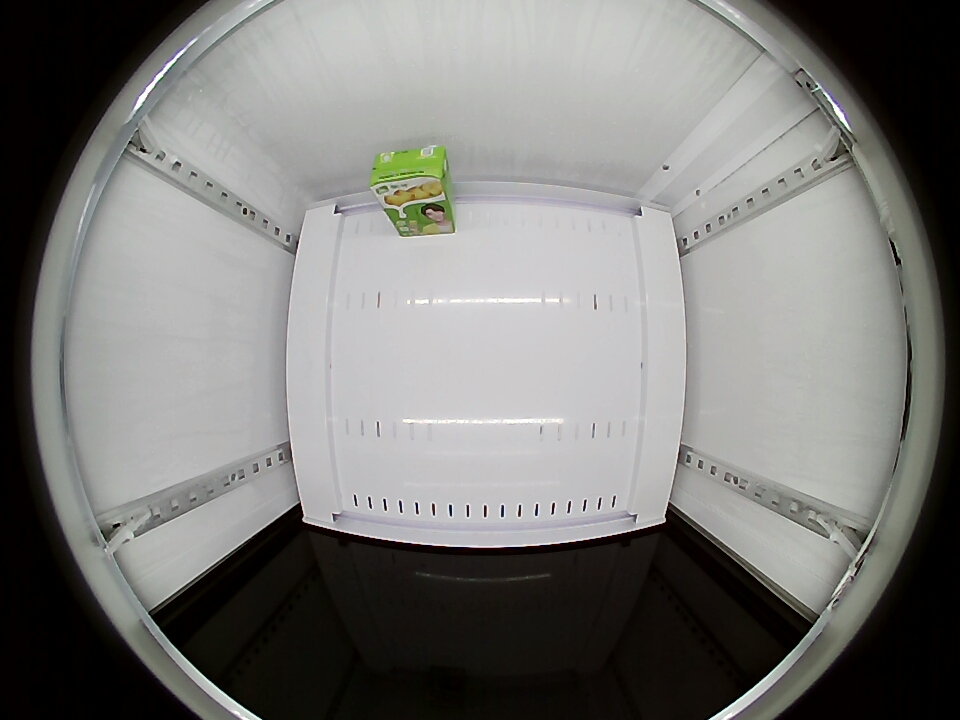mengniuzaocan: (370, 146, 449, 201)
